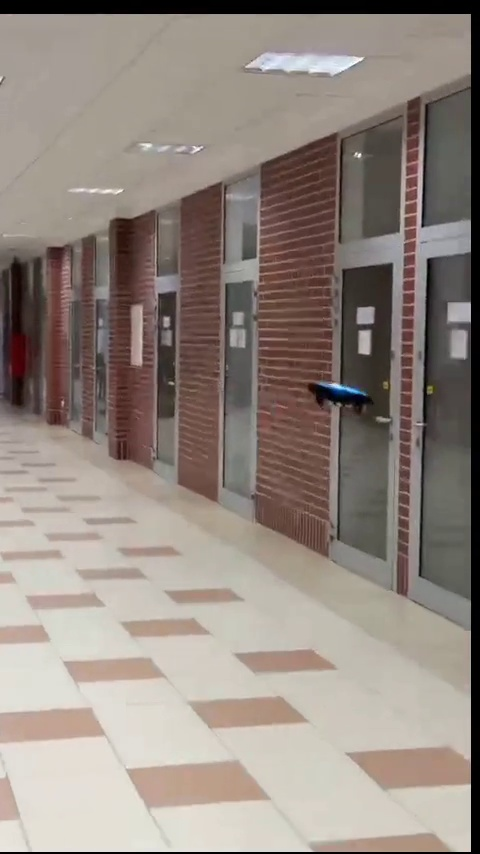drone: (307, 381, 373, 415)
